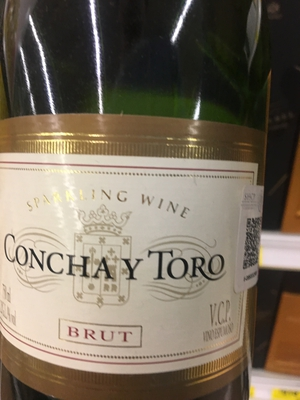brut: (1, 21, 267, 400)
